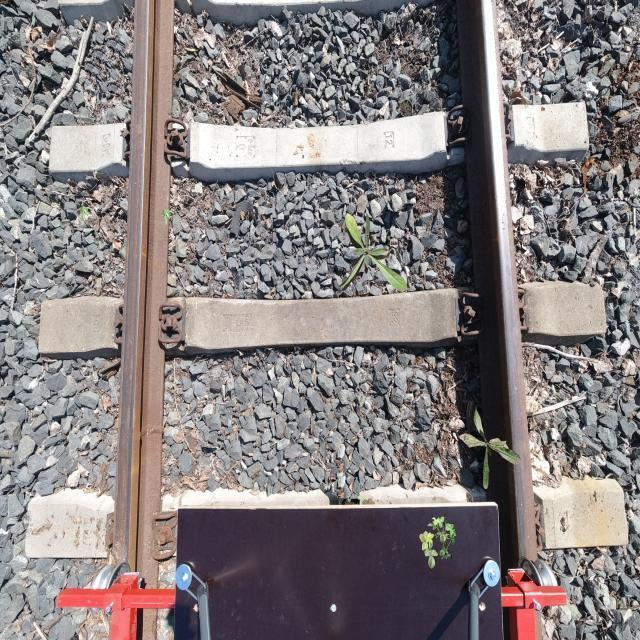Plant: (336, 212, 408, 293), (458, 406, 522, 490), (419, 514, 456, 569), (79, 206, 93, 222), (161, 210, 175, 225)
